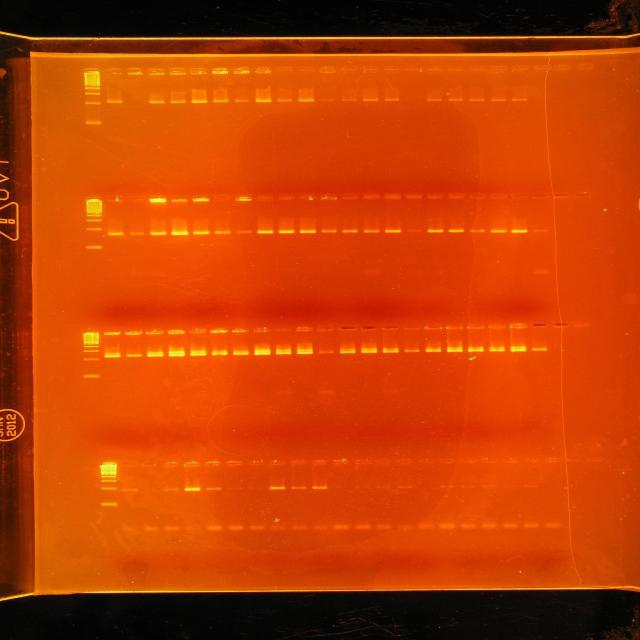B: (118, 524, 139, 532), (522, 522, 542, 530), (478, 522, 498, 530), (416, 522, 436, 530), (501, 522, 520, 530), (332, 523, 351, 531), (142, 524, 160, 532), (249, 524, 267, 532), (460, 522, 478, 530), (270, 524, 288, 532), (438, 522, 458, 529), (354, 522, 371, 530), (205, 524, 224, 531), (227, 524, 246, 531), (374, 523, 393, 530), (396, 523, 414, 530), (290, 524, 308, 531), (542, 522, 562, 528), (170, 230, 190, 236), (163, 526, 182, 532), (383, 228, 402, 234), (395, 484, 413, 490), (374, 484, 392, 490), (311, 524, 329, 530), (192, 230, 210, 236), (489, 228, 507, 234), (426, 228, 444, 234), (120, 487, 140, 492), (509, 229, 529, 234), (206, 486, 222, 492), (183, 487, 202, 492), (162, 487, 180, 492), (289, 485, 307, 490), (310, 485, 328, 490), (447, 228, 465, 233), (320, 229, 338, 234), (439, 484, 456, 489), (226, 486, 243, 491), (482, 484, 498, 489), (460, 484, 476, 489), (298, 230, 318, 234), (268, 486, 287, 490), (295, 348, 314, 352), (106, 232, 125, 236), (149, 231, 168, 235), (104, 352, 122, 356), (146, 354, 164, 358), (190, 353, 208, 357), (232, 352, 250, 356), (254, 352, 272, 356), (235, 230, 253, 234), (362, 229, 380, 233), (256, 230, 274, 234), (148, 100, 166, 104), (468, 98, 486, 102), (446, 98, 464, 102), (425, 98, 443, 102), (340, 98, 358, 102), (297, 98, 315, 102), (213, 230, 230, 234), (532, 229, 549, 233), (469, 229, 486, 233), (278, 230, 295, 234), (106, 100, 123, 104), (170, 100, 187, 104), (191, 100, 208, 104), (212, 100, 229, 104), (511, 98, 528, 102), (490, 98, 507, 102), (362, 98, 379, 102), (233, 99, 250, 103), (522, 484, 538, 488), (212, 352, 228, 356), (128, 232, 144, 236), (406, 228, 422, 232), (275, 99, 294, 102), (254, 99, 273, 102), (190, 350, 208, 353), (318, 351, 336, 354), (467, 349, 485, 352), (382, 350, 400, 353), (341, 230, 359, 233), (168, 354, 185, 357), (168, 351, 185, 354), (275, 352, 292, 355), (275, 349, 292, 352), (339, 351, 356, 354), (510, 349, 527, 352), (489, 349, 506, 352), (467, 346, 484, 349), (446, 346, 463, 349), (361, 351, 378, 354), (361, 348, 378, 351), (383, 98, 400, 101), (126, 354, 142, 357), (340, 348, 356, 351), (532, 348, 548, 351), (489, 346, 505, 349), (146, 352, 164, 354), (232, 350, 250, 352), (254, 350, 272, 352), (296, 352, 314, 354), (105, 356, 122, 358), (211, 350, 228, 352), (510, 346, 527, 348), (446, 350, 463, 352), (425, 350, 442, 352), (425, 348, 442, 350), (404, 350, 421, 352), (382, 348, 399, 350)
L: (80, 319, 597, 339), (91, 454, 608, 472), (79, 61, 599, 78), (84, 190, 594, 206)
M: (99, 471, 119, 535), (81, 78, 102, 130), (84, 206, 104, 251), (82, 338, 102, 379)
P: (84, 120, 102, 126), (85, 245, 103, 250), (100, 502, 118, 506), (84, 92, 101, 96), (84, 374, 100, 378), (86, 227, 102, 231), (86, 219, 103, 222), (101, 487, 117, 490), (83, 358, 99, 361), (83, 350, 99, 353), (85, 102, 101, 105), (84, 84, 100, 87), (86, 214, 102, 217), (83, 346, 100, 348), (84, 88, 101, 90), (101, 480, 117, 482), (101, 476, 117, 478), (101, 474, 117, 476), (84, 343, 100, 345), (84, 341, 100, 343), (86, 212, 102, 214)
Pc: (102, 67, 122, 76), (124, 67, 144, 76), (552, 63, 572, 72), (106, 194, 125, 203), (361, 193, 382, 201), (146, 67, 164, 76), (168, 67, 186, 76), (340, 65, 358, 74), (319, 194, 339, 202), (467, 192, 487, 200), (382, 192, 402, 200), (210, 67, 230, 75), (574, 62, 594, 70), (510, 64, 530, 72), (145, 328, 164, 336), (82, 68, 101, 76), (84, 196, 103, 204), (447, 192, 466, 200), (189, 67, 208, 75), (274, 66, 293, 74), (532, 64, 551, 72), (332, 458, 350, 466), (298, 194, 316, 202), (490, 192, 508, 200), (232, 66, 250, 74), (254, 66, 272, 74), (318, 66, 336, 74), (382, 64, 400, 72), (148, 196, 168, 203), (340, 193, 360, 200), (530, 192, 550, 199), (296, 66, 316, 73), (424, 66, 444, 73), (360, 65, 380, 72), (481, 456, 498, 464), (99, 462, 118, 469), (183, 461, 202, 468), (191, 196, 210, 203), (403, 65, 422, 72), (128, 194, 144, 202), (204, 460, 222, 467), (226, 459, 244, 466), (460, 457, 478, 464), (374, 458, 392, 465), (354, 458, 372, 465), (82, 331, 100, 338), (170, 196, 188, 203), (468, 65, 486, 72), (447, 65, 465, 72), (500, 457, 520, 463), (188, 328, 208, 334), (316, 326, 336, 332), (466, 324, 486, 330), (530, 322, 550, 328), (509, 323, 529, 329), (572, 192, 592, 198), (509, 192, 529, 198), (425, 193, 445, 199), (488, 65, 508, 71), (120, 462, 139, 468), (522, 457, 541, 463), (423, 324, 442, 330), (404, 193, 423, 199), (248, 459, 264, 466), (162, 462, 180, 468), (268, 460, 286, 466), (290, 459, 308, 465), (564, 457, 582, 463), (543, 457, 561, 463), (124, 330, 142, 336), (253, 327, 271, 333), (295, 326, 313, 332), (446, 324, 464, 330), (552, 322, 570, 328), (256, 196, 274, 202), (552, 192, 570, 198), (417, 458, 434, 464), (235, 196, 252, 202), (402, 325, 422, 330), (212, 196, 232, 201), (210, 328, 229, 333), (231, 328, 250, 333), (573, 322, 592, 327), (488, 324, 507, 329), (141, 462, 159, 467), (585, 457, 603, 462), (438, 458, 456, 463), (396, 458, 414, 463), (103, 331, 121, 336), (274, 327, 292, 332), (339, 326, 357, 331), (277, 196, 295, 201), (310, 460, 330, 464), (167, 330, 186, 334), (360, 326, 379, 330), (382, 326, 399, 330)
